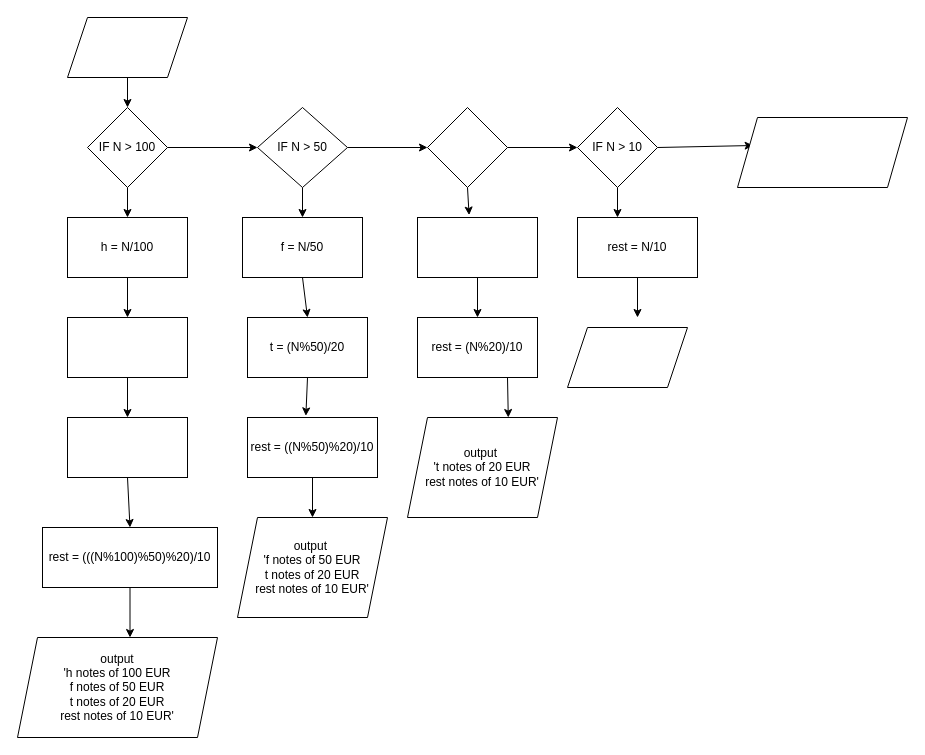
The diagram is 925 pixels wide and 755 high, and some of its shapes have lost their labels. The shapes that lost their labels are listed below. From the top down, each one's centre as x and y in pixels, then its label:
[127,47]: input N
[467,147]: IF N > 20
[822,152]: output 'Enter a correct amount'
[477,247]: t = N/20
[127,347]: f = (N%100)/50
[627,357]: output 'rest notrs of 10 EUR'
[127,447]: t = ((N%100)%50)/20
